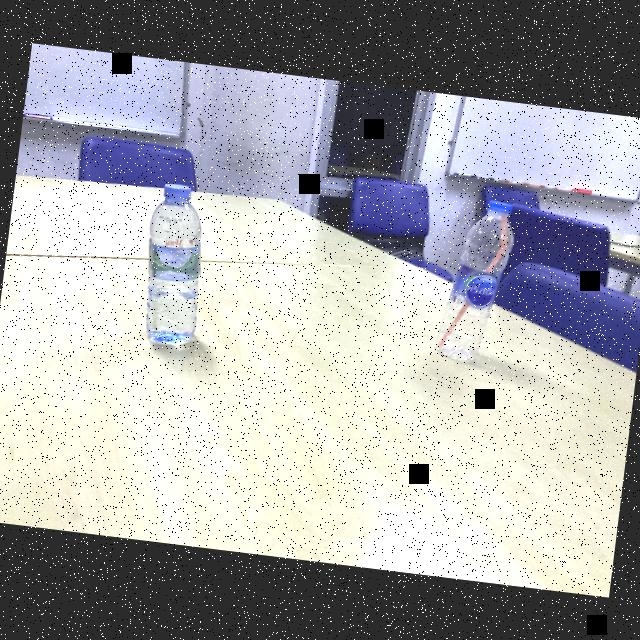plastic_bottle: (436, 194, 520, 368), (132, 180, 215, 352)
plastic_bottle_cap: (162, 180, 194, 204), (484, 196, 516, 217)
straw: (435, 210, 512, 354)
